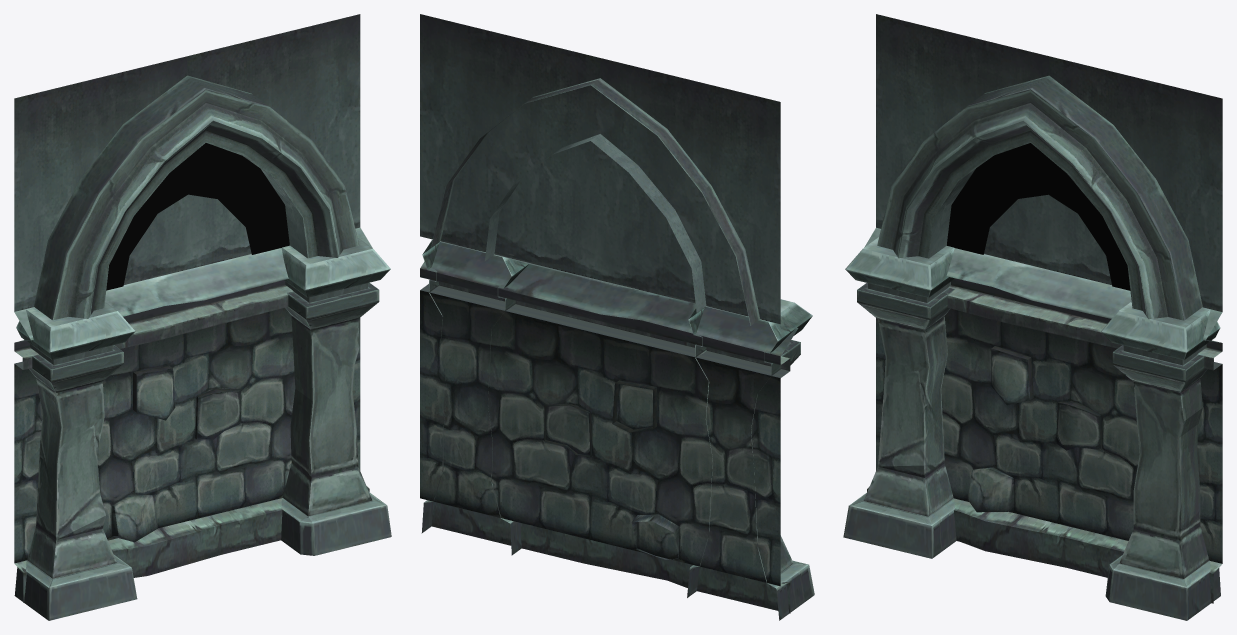
File: crypt_wall_straight_02.fbx
3 renders of one model, left to right at view 1: azimuth 30°, elevation 25°; view 2: azimuth 150°, elevation 25°; view 3: azimuth 330°, elevation 25°, orthographic. The views are drawn at different scales.
Parts seen in each view (by area): view 1: crypt_wall_straight_02-0; view 2: crypt_wall_straight_02-0; view 3: crypt_wall_straight_02-0.
Boxes of the visible parts, x1,y1,x2,y2 form: crypt_wall_straight_02-0: [14, 14, 391, 620]; crypt_wall_straight_02-0: [420, 14, 814, 620]; crypt_wall_straight_02-0: [843, 14, 1222, 620].
Bounding box in the file's own units: 4 × 5.5 × 0.8606.
